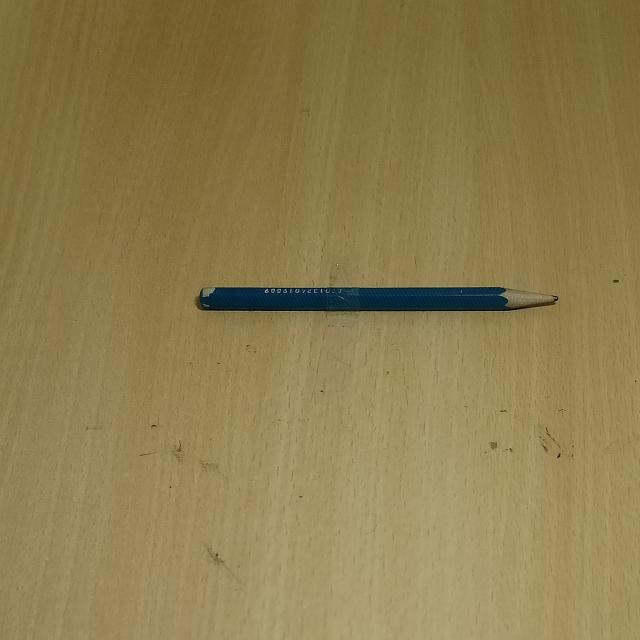pencil: (192, 266, 579, 332)
